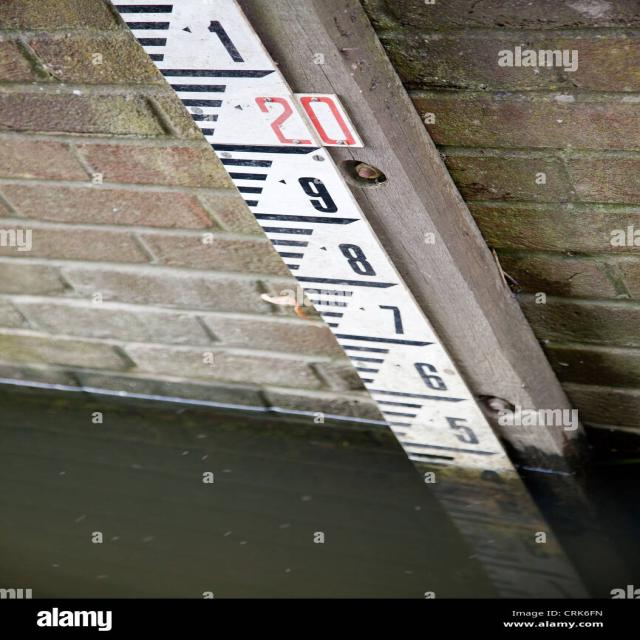ruler: (85, 0, 526, 484)
value: (239, 88, 367, 151), (192, 9, 254, 72), (285, 170, 347, 220), (323, 236, 388, 282), (435, 410, 489, 449), (363, 299, 415, 339), (407, 358, 458, 396)
